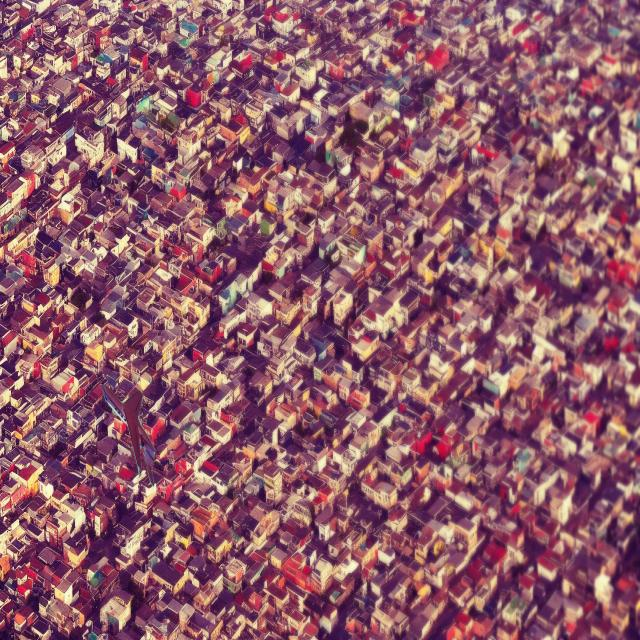airplane: (100, 379, 158, 487)
